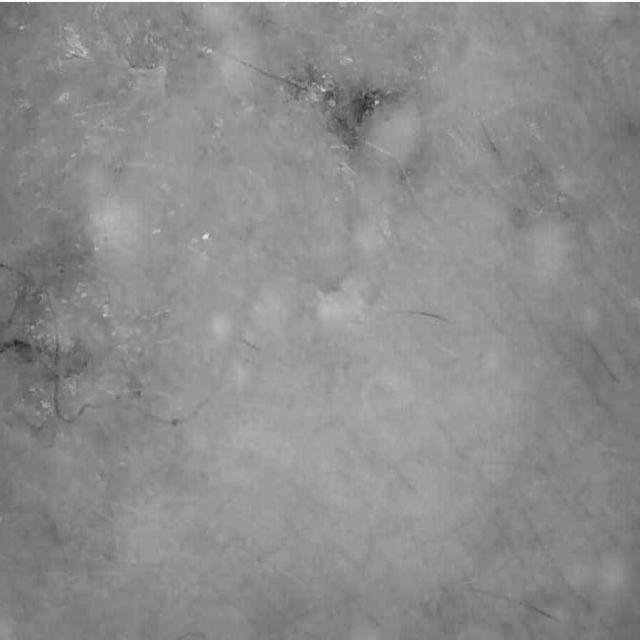s: (288, 65, 399, 150), (0, 241, 94, 335), (0, 337, 88, 415)
